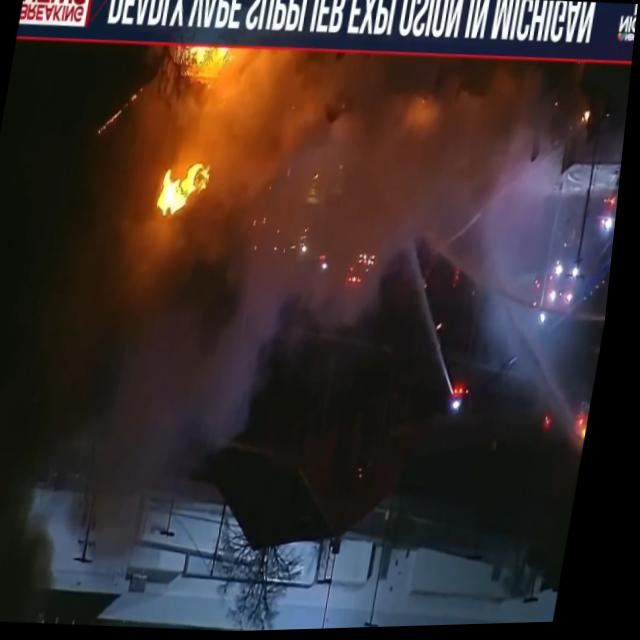Fire: (118, 135, 250, 292), (147, 41, 273, 113)
